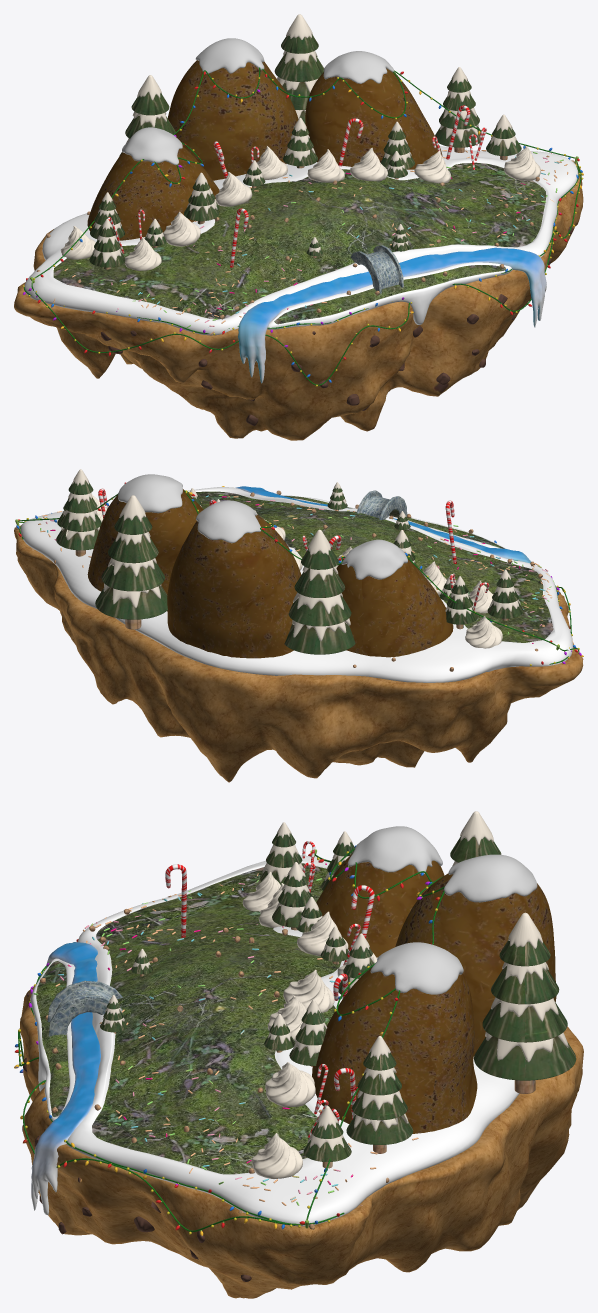
The model's file is Holiday Island.glb.
3 views of the same model, one above another, from view 1: azimuth 30°, elevation 25°; view 2: azimuth 150°, elevation 25°; view 3: azimuth 270°, elevation 25° (orthographic). The views are drawn at different scales.
Visible parts, largest first — view 1: object 3, object 4, object 2, object 1, object 5, object 7, node_id451311003, object 6; view 2: object 3, object 2, object 1, object 5, object 4, object 7, node_id451311003, object 6; view 3: object 4, object 2, object 3, object 1, object 5, object 7, node_id451311003, object 6.
Part boxes in pixels (x1,y1,x2,y2): object 3: (14, 163, 583, 440); object 4: (53, 162, 546, 324); object 2: (87, 38, 546, 383); object 1: (36, 35, 574, 319); object 5: (24, 146, 578, 335); object 7: (92, 14, 516, 263); node_id451311003: (22, 67, 583, 386); object 6: (49, 150, 568, 334); object 3: (14, 525, 583, 782); object 2: (87, 474, 530, 658); object 1: (15, 480, 545, 671); object 5: (20, 487, 572, 682); object 4: (100, 491, 553, 642); object 7: (61, 469, 520, 641); node_id451311003: (15, 482, 583, 665); object 6: (38, 494, 573, 643); object 4: (36, 863, 341, 1174); object 2: (31, 826, 556, 1215); object 3: (19, 987, 583, 1298); object 1: (40, 833, 576, 1229); object 5: (30, 855, 519, 1226); object 7: (102, 811, 568, 1150); node_id451311003: (14, 845, 444, 1236); object 6: (33, 863, 418, 1205).
Size of the model in its own units: 2.28 by 1.07 by 1.48.
8 materials, 7 textured.
